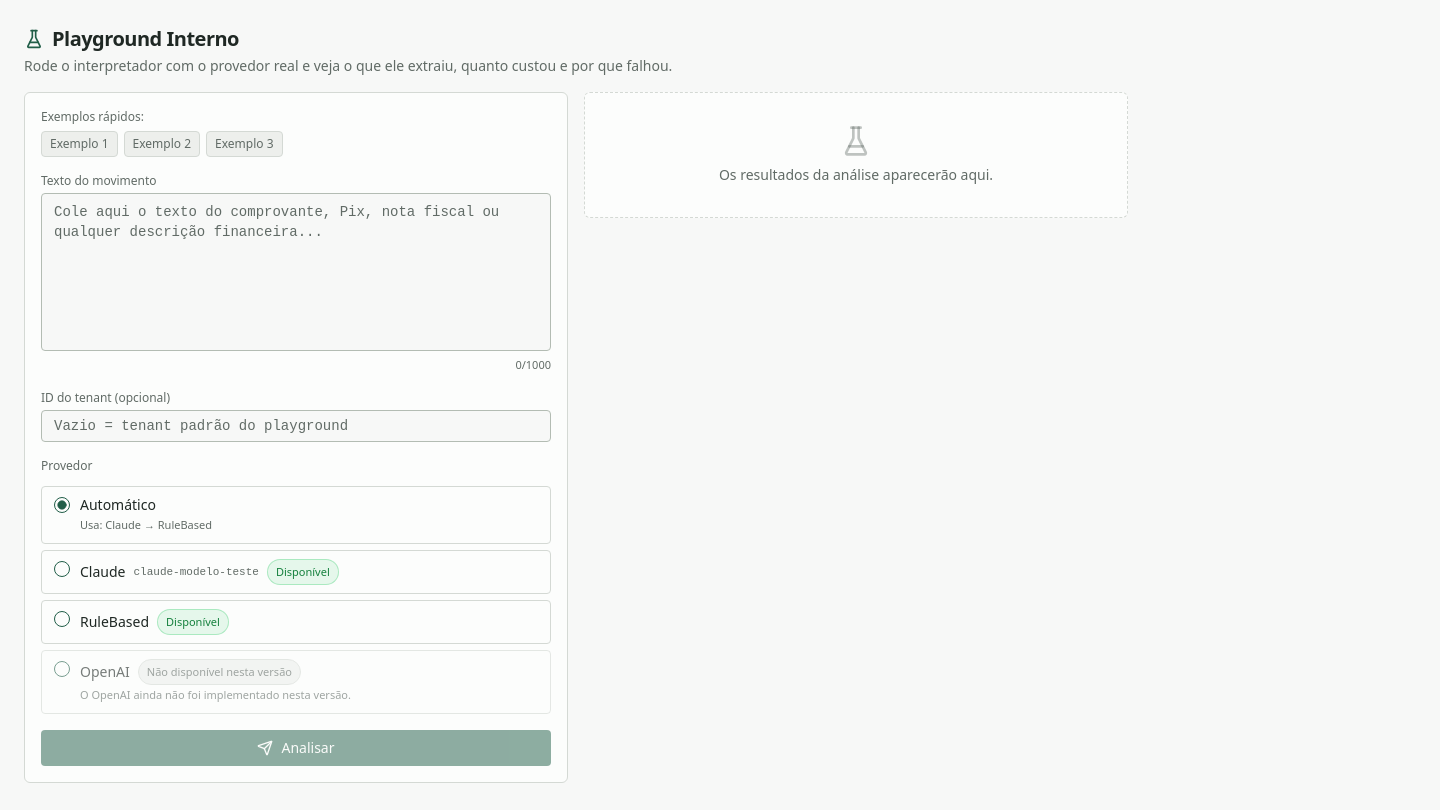
AiPlaygroundPage › sends forceProvider null in automatic mode
Expected: the radio button named "Claude" is shown, [54,560,70,576]
Replace the text in the text box labelled "Texto do movimento" with "Pix enviado em 07/05/2026 R$ 850,00": (296, 272) [41,193,551,351]
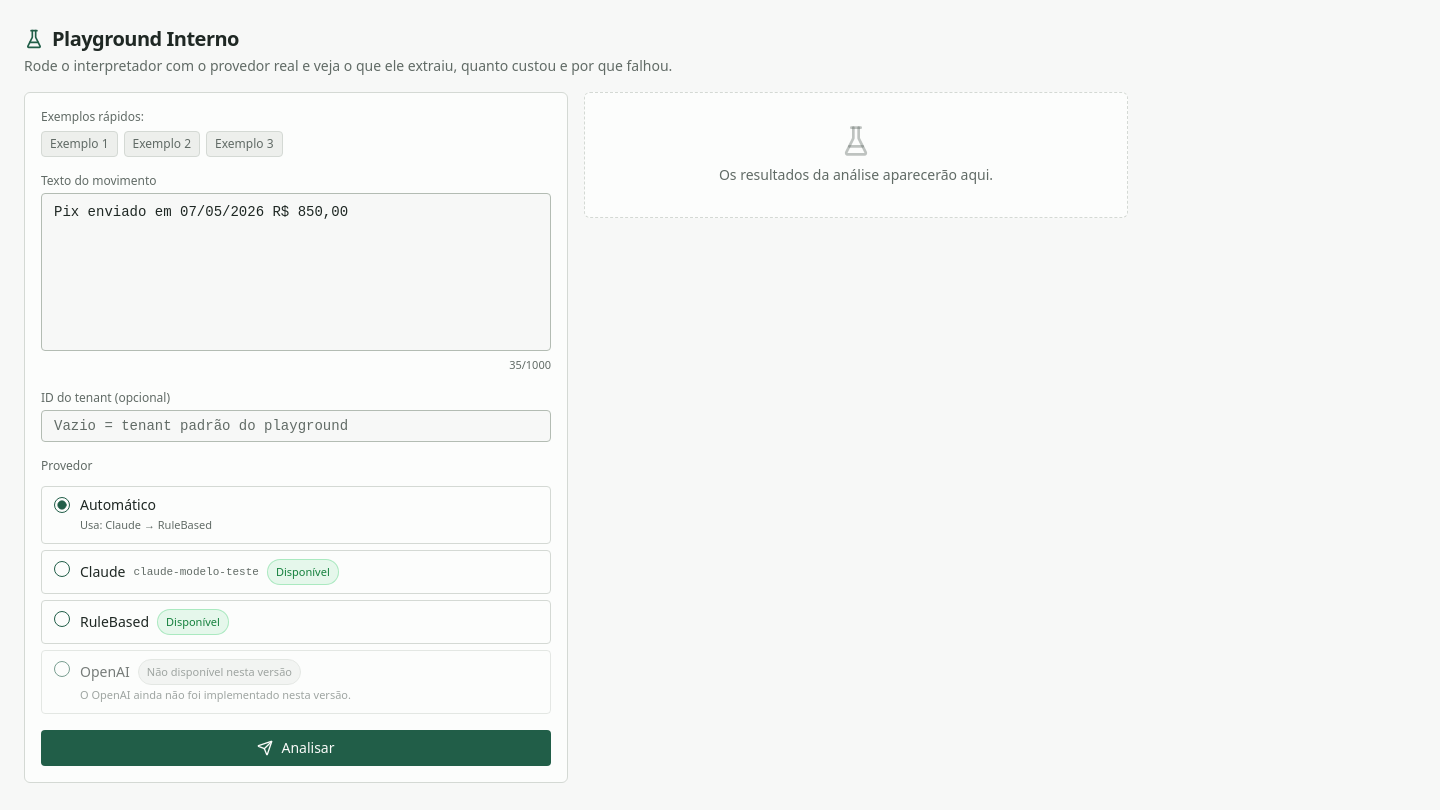
Click the button "Analisar": (296, 748) [41,730,551,766]
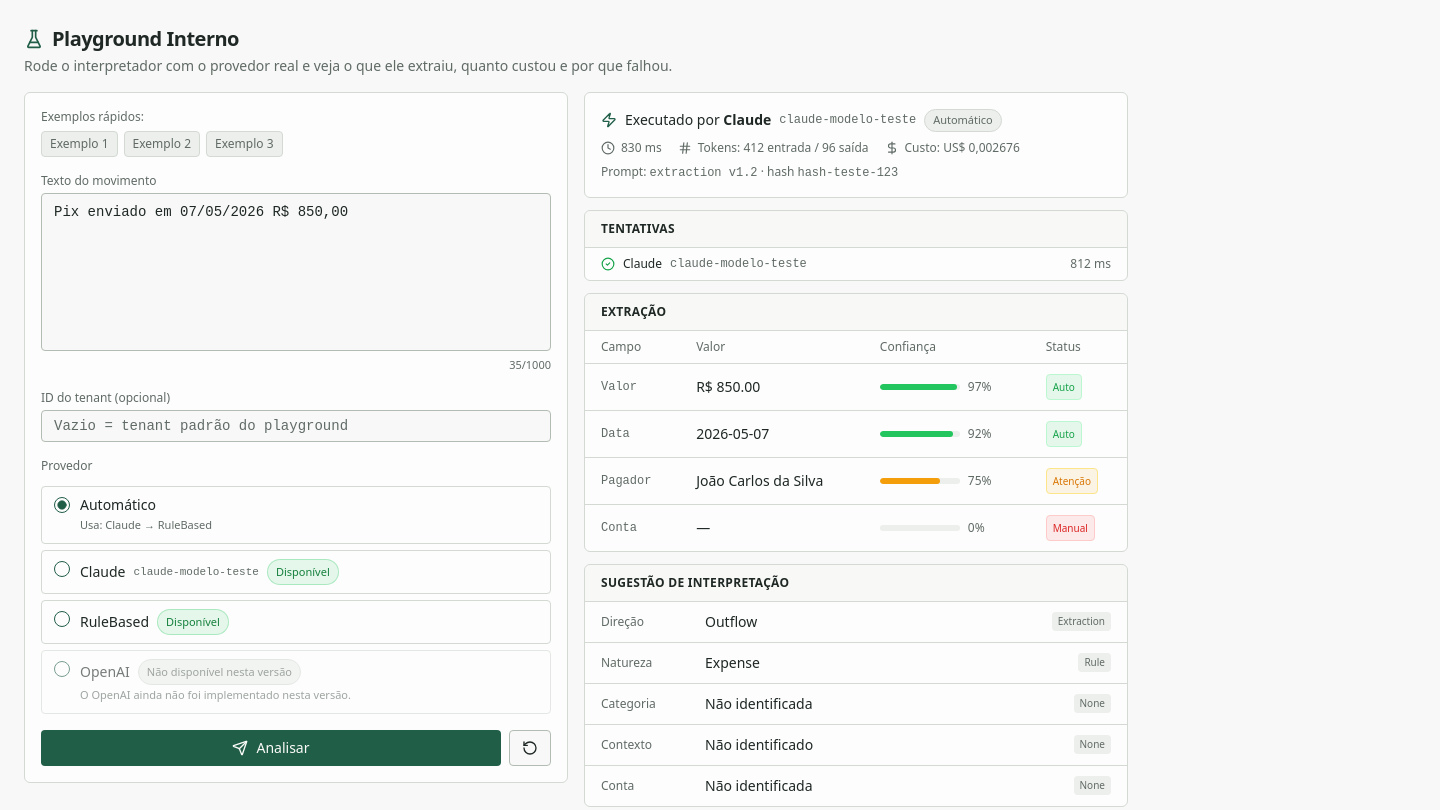
Now the text "Automático" in the row of "Executado por" is shown, box [933,112,993,127]
